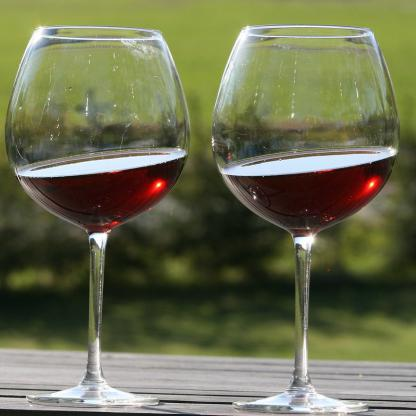drinking: (212, 24, 401, 414), (5, 25, 191, 408)
